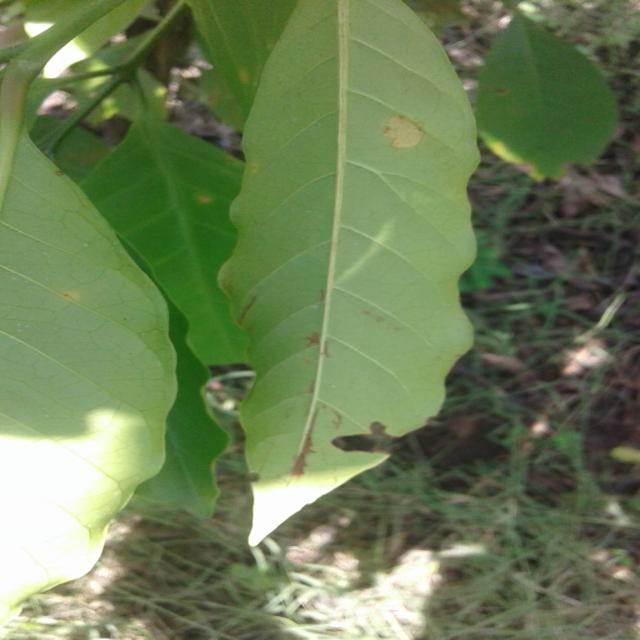Enfermedad-Roya: (234, 0, 481, 537)
